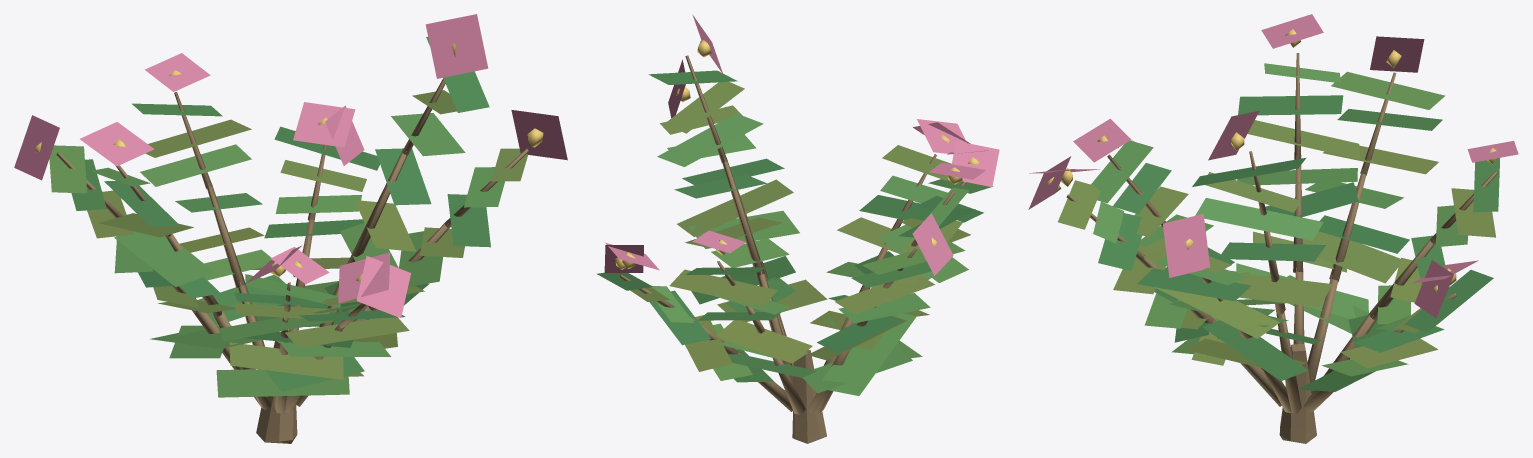
File: flower_bush_far.efb02ea6.glb
The picture shows the model from 3 angles, left to right: view 1: azimuth 30°, elevation 25°; view 2: azimuth 150°, elevation 25°; view 3: azimuth 270°, elevation 25°; orthographic projection. The views are drawn at different scales.
Parts seen in each view (by area): view 1: flower_bush; view 2: flower_bush; view 3: flower_bush.
Part boxes in pixels (bbox=[...]): flower_bush: bbox=[14, 14, 567, 443]; flower_bush: bbox=[597, 14, 999, 443]; flower_bush: bbox=[1028, 14, 1518, 443].
Size of the model in its own units: 1.14 by 1.05 by 1.16.
